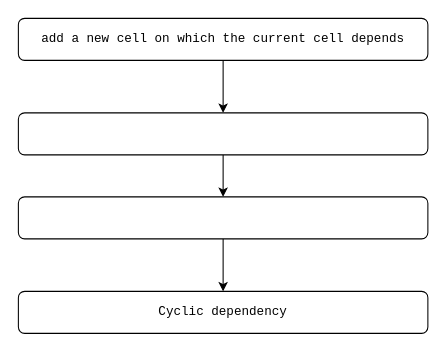
This 446x352 diagram has some shape labels left out. The centre of each missing label's shape, as x and y in pixels:
"depth-first search and breadth-first search in a graph" belongs at point (222, 133).
"Does the graph enter the same cell a second time?" belongs at point (222, 217).
